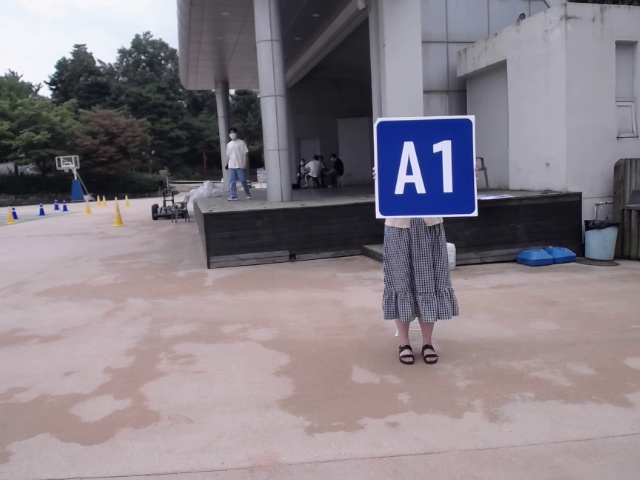delivery_a1: (374, 119, 478, 218)
